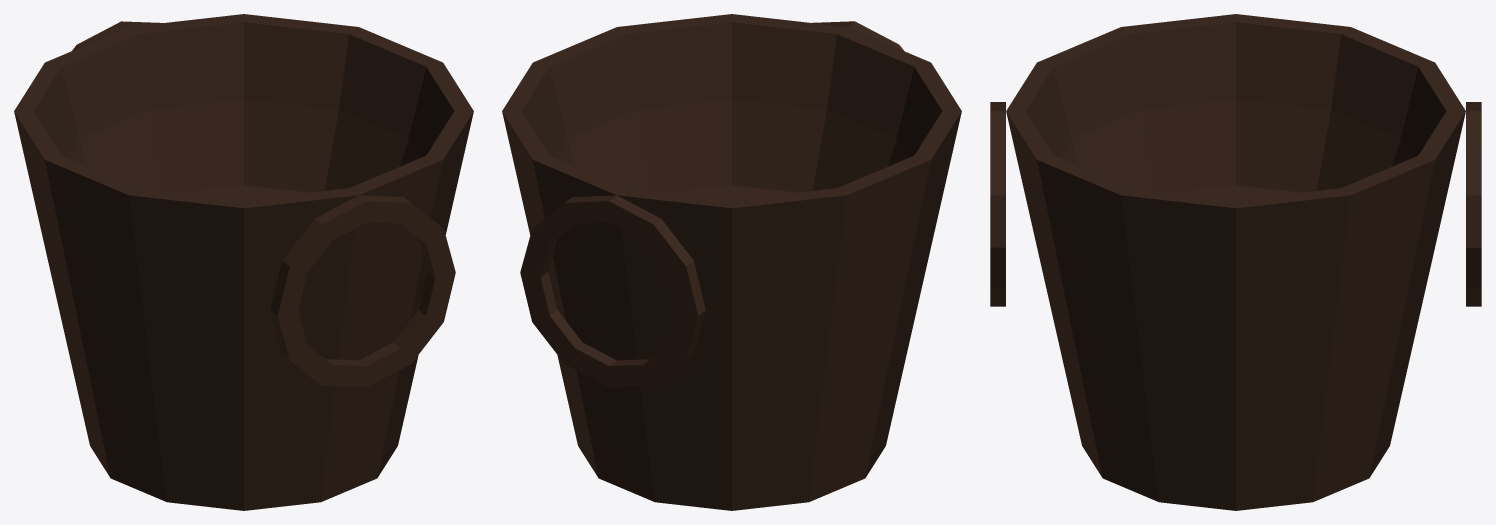
File: Secchio Vuoto .fbx
The picture shows the model from 3 angles, left to right: view 1: azimuth 30°, elevation 25°; view 2: azimuth 150°, elevation 25°; view 3: azimuth 270°, elevation 25°; orthographic projection.
Visible parts, largest first — view 1: Secchio; view 2: Secchio; view 3: Secchio.
Boxes of the visible parts, left/top/right/bottom form: Secchio: left=14, top=14, right=473, bottom=510; Secchio: left=502, top=14, right=961, bottom=510; Secchio: left=990, top=14, right=1481, bottom=510.
Size of the model in its own units: 80.5 by 64.65 by 86.01.
